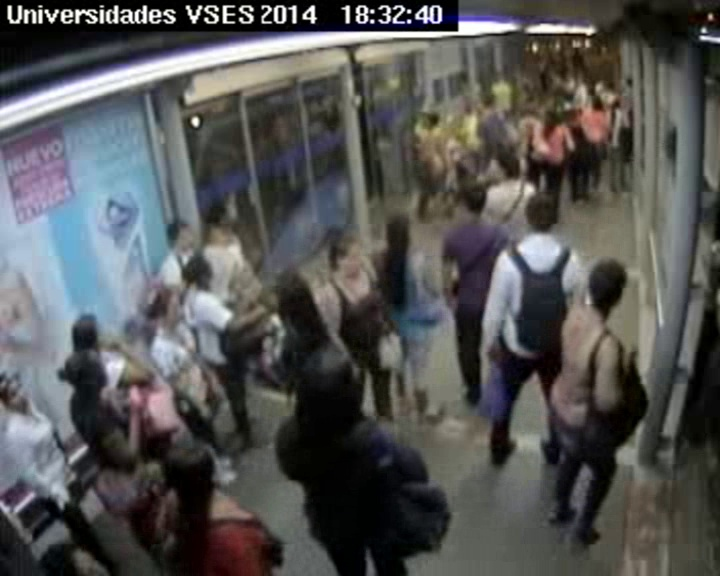person: (291, 349, 364, 426), (162, 442, 218, 499), (587, 260, 629, 310), (64, 351, 108, 395), (324, 231, 364, 275), (145, 289, 183, 332), (94, 421, 132, 464), (290, 237, 328, 278), (278, 279, 315, 318), (1, 373, 33, 413), (525, 193, 559, 230), (457, 185, 487, 220), (72, 314, 101, 348), (382, 214, 411, 244), (184, 258, 214, 287), (164, 221, 192, 252), (495, 153, 522, 178), (207, 220, 231, 247), (543, 110, 559, 127), (480, 96, 496, 112), (549, 64, 565, 80), (425, 111, 440, 127), (410, 114, 425, 130), (568, 112, 582, 127), (590, 79, 603, 93), (455, 129, 468, 143), (502, 109, 515, 123), (590, 98, 603, 111), (526, 103, 537, 115), (574, 72, 585, 83), (462, 102, 473, 113), (604, 81, 614, 92), (496, 73, 506, 84), (537, 72, 547, 82), (565, 73, 575, 83), (612, 99, 621, 109)
